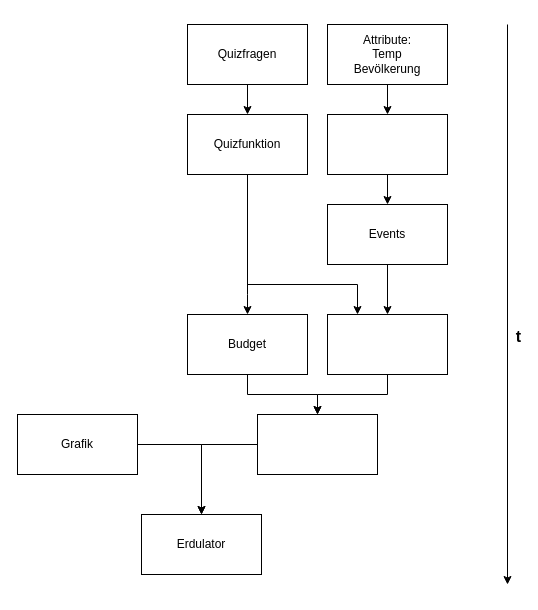
This 538x610 diagram has some shape labels left out. Here are the shapes that lost their labels. From the top down, the centre of each, then its label:
At (387,144): "Erde".
At (387,344): "Leben".
At (317,444): "Spielverlauf".
